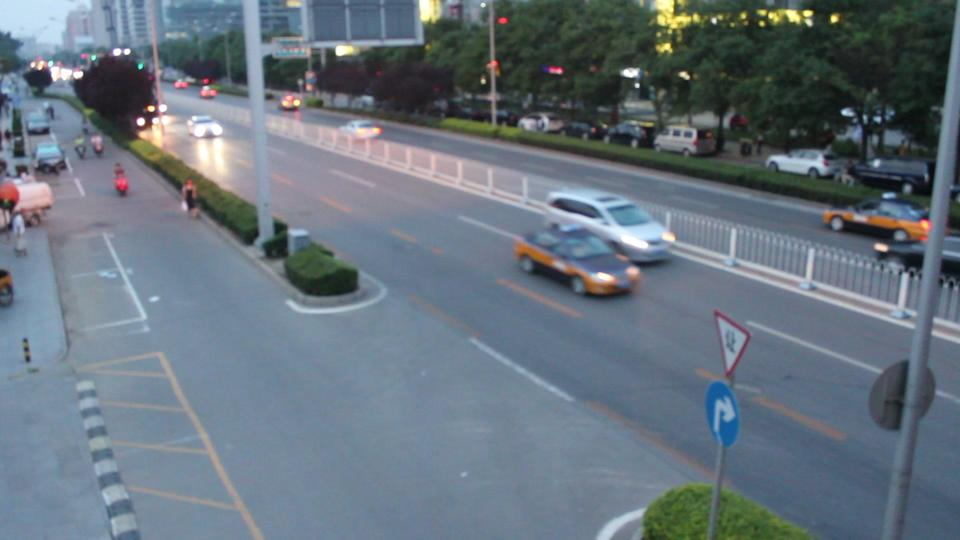Car: (547, 188, 672, 263), (516, 225, 638, 297), (822, 192, 932, 240), (338, 120, 378, 140), (189, 114, 220, 138)
